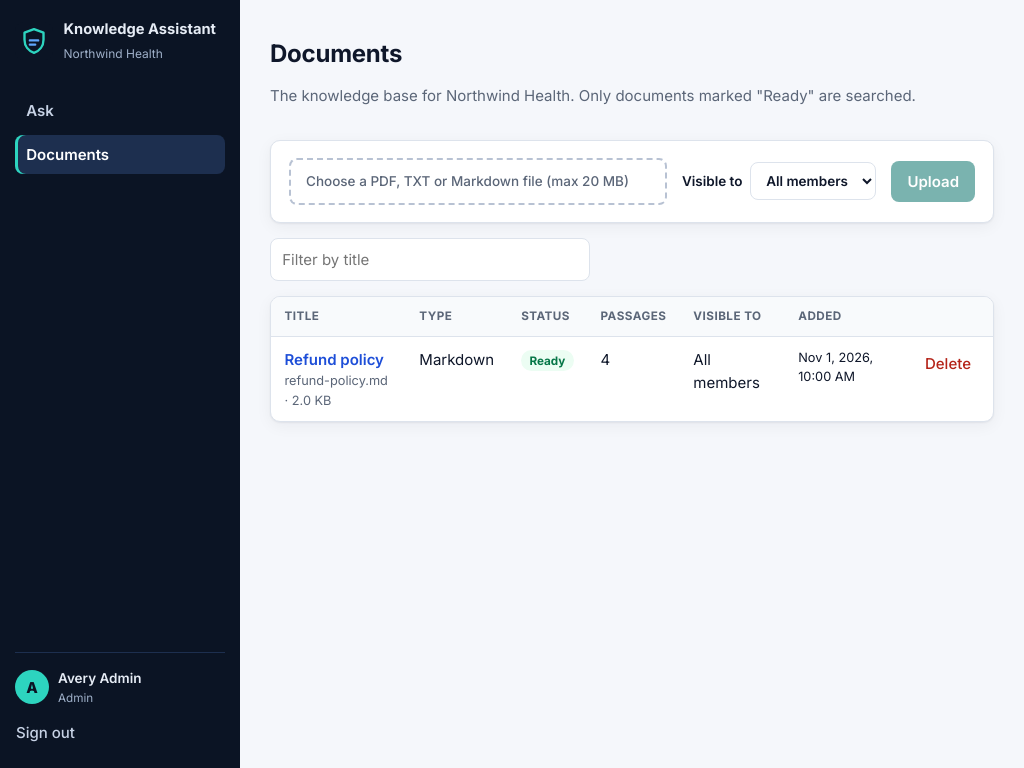
Test case: documents › deletes a document after confirmation
The image size is (1024, 768).
Click the button with aria-label "Delete Refund policy" at (948, 364), box left=916, top=348, right=980, bottom=380
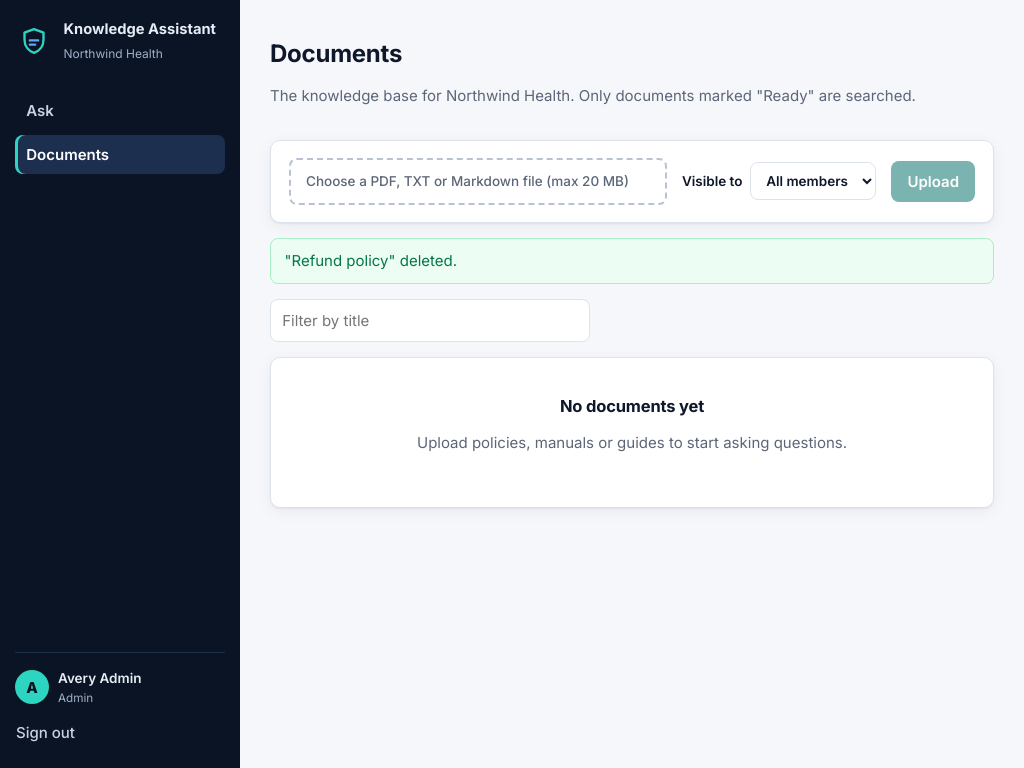
Expected: the text "\"Refund policy\" deleted." is shown, left=270, top=238, right=994, bottom=284
